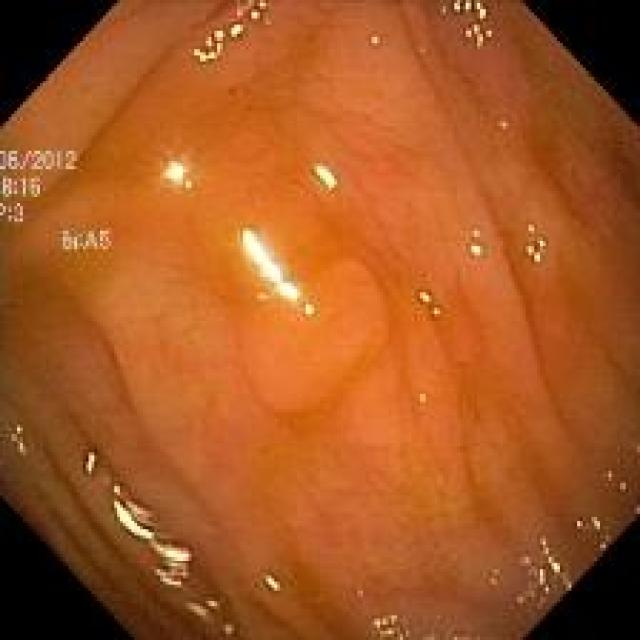Polyps: (239, 261, 388, 413)
